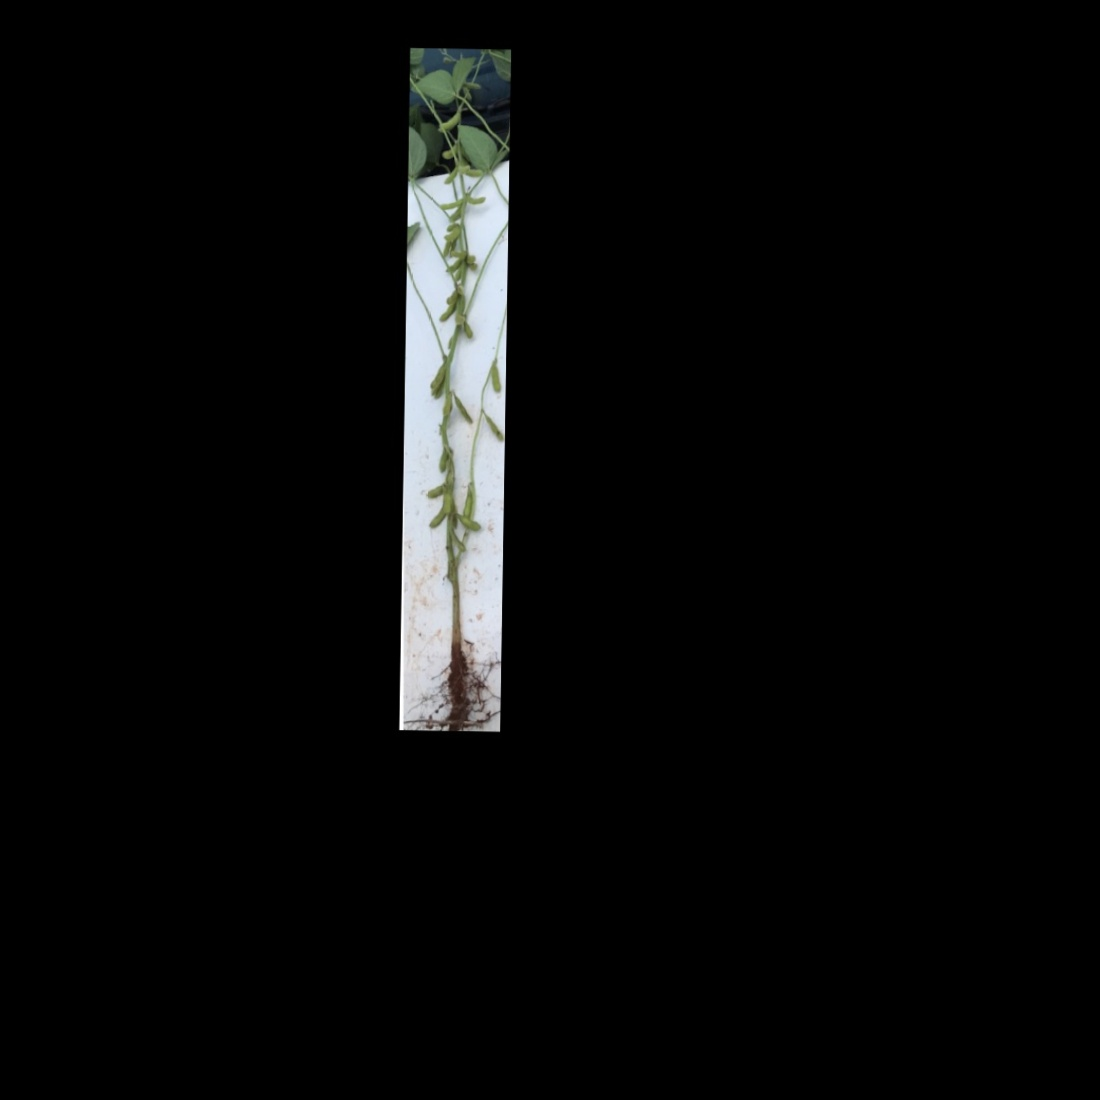pod: (449, 389, 474, 428), (478, 410, 503, 443), (437, 108, 461, 132), (458, 483, 473, 519), (489, 362, 503, 396), (449, 527, 466, 552), (436, 198, 464, 212), (446, 247, 468, 260), (463, 195, 488, 205)
soy: (401, 49, 508, 729)
